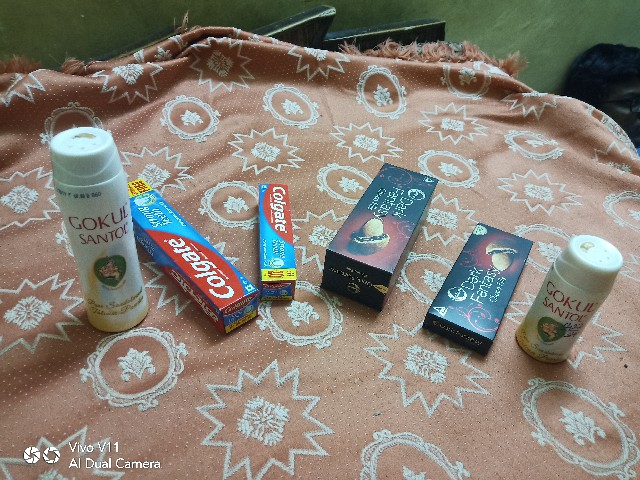colgatetoothpaste big: (128, 175, 258, 343)
colgatetoothpaste small: (253, 167, 307, 299)
darkfantasy big: (324, 143, 439, 319)
darkfantasy small: (420, 216, 539, 372)
gokulsantol big: (31, 110, 145, 343)
gokulsantol small: (520, 208, 628, 399)
